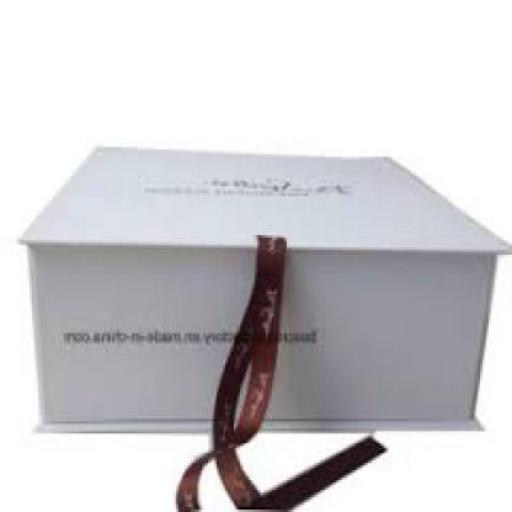cardboard: (22, 145, 512, 429)
